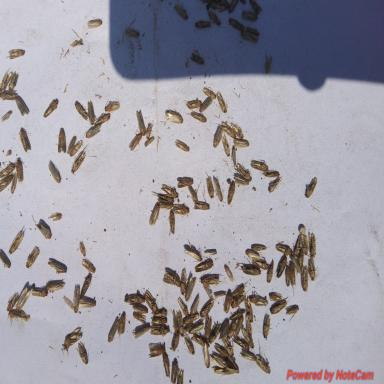pbw: (184, 237, 203, 261), (161, 268, 181, 287), (288, 259, 298, 297), (106, 316, 119, 343), (235, 162, 252, 182), (146, 341, 166, 358), (14, 94, 29, 116), (80, 273, 93, 298), (25, 245, 39, 268), (43, 98, 59, 118), (220, 120, 236, 140), (224, 354, 240, 374), (124, 289, 145, 304), (18, 126, 30, 152), (226, 316, 239, 340), (185, 109, 207, 123), (74, 99, 88, 121), (240, 327, 254, 349), (240, 262, 262, 276), (185, 274, 196, 302), (148, 201, 160, 226), (144, 289, 157, 312), (0, 69, 13, 92), (151, 190, 174, 203), (164, 108, 182, 124), (75, 342, 88, 364), (16, 288, 29, 310), (231, 336, 250, 351), (43, 278, 63, 292), (270, 300, 290, 314), (150, 322, 170, 336), (47, 163, 61, 183), (304, 176, 317, 197), (85, 124, 102, 140), (229, 121, 244, 139), (36, 222, 51, 240), (14, 157, 24, 184), (136, 110, 146, 137), (5, 292, 19, 311), (249, 293, 268, 307), (249, 158, 268, 172), (200, 298, 214, 317), (289, 252, 301, 274), (209, 322, 221, 344), (216, 90, 228, 112), (213, 175, 223, 201), (0, 171, 13, 191), (56, 127, 66, 153), (46, 261, 66, 274), (240, 346, 256, 362), (276, 255, 287, 278), (127, 134, 141, 152), (4, 47, 25, 59), (172, 202, 190, 216), (160, 183, 178, 197), (228, 17, 246, 31), (239, 30, 258, 43), (203, 314, 212, 341), (0, 247, 11, 269), (267, 178, 283, 193), (6, 308, 26, 320), (177, 296, 189, 316), (198, 97, 214, 112), (222, 337, 234, 357), (210, 353, 226, 368), (253, 256, 270, 270), (286, 304, 299, 322), (220, 316, 229, 342), (117, 310, 126, 336), (308, 231, 316, 260), (300, 263, 308, 292), (195, 260, 214, 272), (88, 99, 97, 124), (134, 325, 150, 339), (86, 15, 102, 29), (190, 48, 204, 64), (245, 295, 253, 323), (207, 9, 221, 25), (233, 314, 243, 336), (213, 126, 223, 148), (262, 312, 270, 339), (264, 49, 273, 73), (221, 134, 230, 158), (176, 310, 184, 337), (228, 308, 246, 320), (30, 286, 48, 298), (174, 5, 188, 20), (174, 138, 189, 152), (231, 294, 246, 308), (104, 99, 120, 112), (94, 112, 110, 125), (162, 352, 170, 378), (204, 175, 213, 198), (232, 173, 249, 185), (244, 246, 261, 258), (0, 90, 17, 102), (241, 8, 258, 20), (223, 262, 233, 282), (170, 357, 178, 382), (209, 1, 229, 11), (78, 297, 96, 308), (184, 97, 202, 108), (180, 267, 187, 295), (132, 310, 146, 324), (0, 161, 14, 175), (223, 290, 231, 314), (184, 336, 194, 355), (193, 199, 210, 210), (183, 312, 200, 323), (187, 184, 198, 201), (300, 232, 308, 255), (168, 209, 175, 235), (231, 283, 244, 297), (191, 334, 205, 347), (203, 342, 210, 368), (249, 0, 263, 13), (274, 244, 292, 254), (0, 109, 12, 124), (67, 134, 76, 154), (8, 72, 17, 92), (152, 307, 168, 318), (214, 365, 230, 376), (308, 258, 316, 280), (266, 260, 274, 282), (190, 296, 200, 313), (83, 259, 96, 272), (227, 180, 234, 204), (245, 314, 252, 338), (171, 331, 179, 352), (125, 27, 139, 39), (202, 86, 216, 98), (158, 197, 172, 209), (214, 345, 228, 357), (10, 172, 17, 195), (249, 243, 269, 251), (177, 178, 193, 188), (187, 324, 204, 333), (262, 169, 280, 177), (130, 304, 148, 312), (143, 134, 155, 146), (293, 236, 300, 256), (172, 311, 178, 334), (195, 20, 212, 28), (228, 0, 239, 12), (298, 247, 304, 269), (152, 316, 168, 324), (268, 293, 282, 302), (244, 26, 258, 35), (146, 120, 153, 138), (176, 368, 184, 383), (284, 263, 289, 287), (233, 139, 249, 146), (213, 289, 226, 297), (78, 241, 86, 254), (231, 145, 236, 165), (204, 249, 217, 255)
